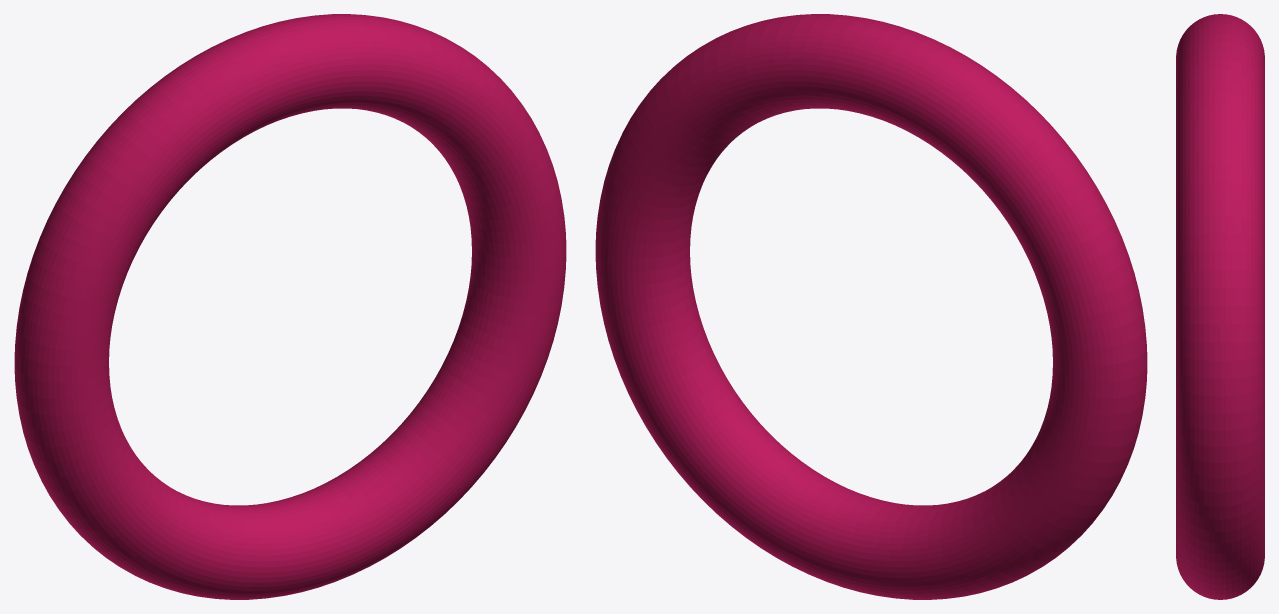
The picture shows the model from 3 angles, left to right: view 1: azimuth 30°, elevation 25°; view 2: azimuth 150°, elevation 25°; view 3: azimuth 270°, elevation 25°; orthographic projection. The views are drawn at different scales.
Visible parts, largest first — view 1: world; view 2: world; view 3: world.
Part boxes in pixels (x1,y1,x2,y2): world: (14, 14, 566, 599); world: (595, 14, 1147, 599); world: (1176, 14, 1264, 599).
Bounding box in the file's own units: 24.89 × 24.89 × 3.77.
